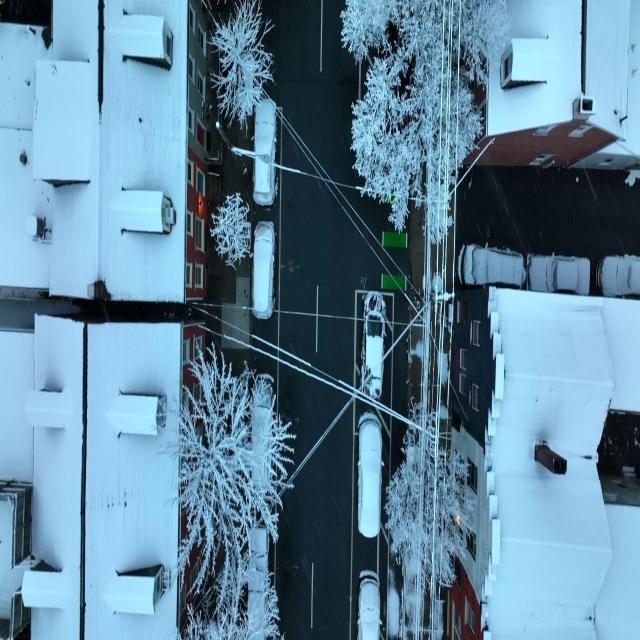Car: (354, 412, 386, 540), (457, 242, 527, 290), (361, 291, 388, 402), (253, 97, 278, 211), (527, 253, 592, 295), (252, 220, 276, 318), (595, 256, 640, 300), (356, 574, 382, 640)
Truck: (244, 523, 269, 640)
Van: (249, 371, 275, 507)
